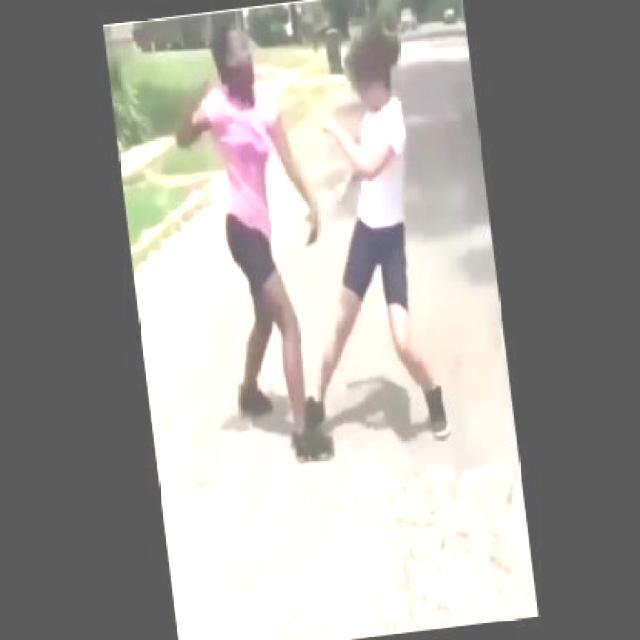fight: (162, 0, 452, 468)
